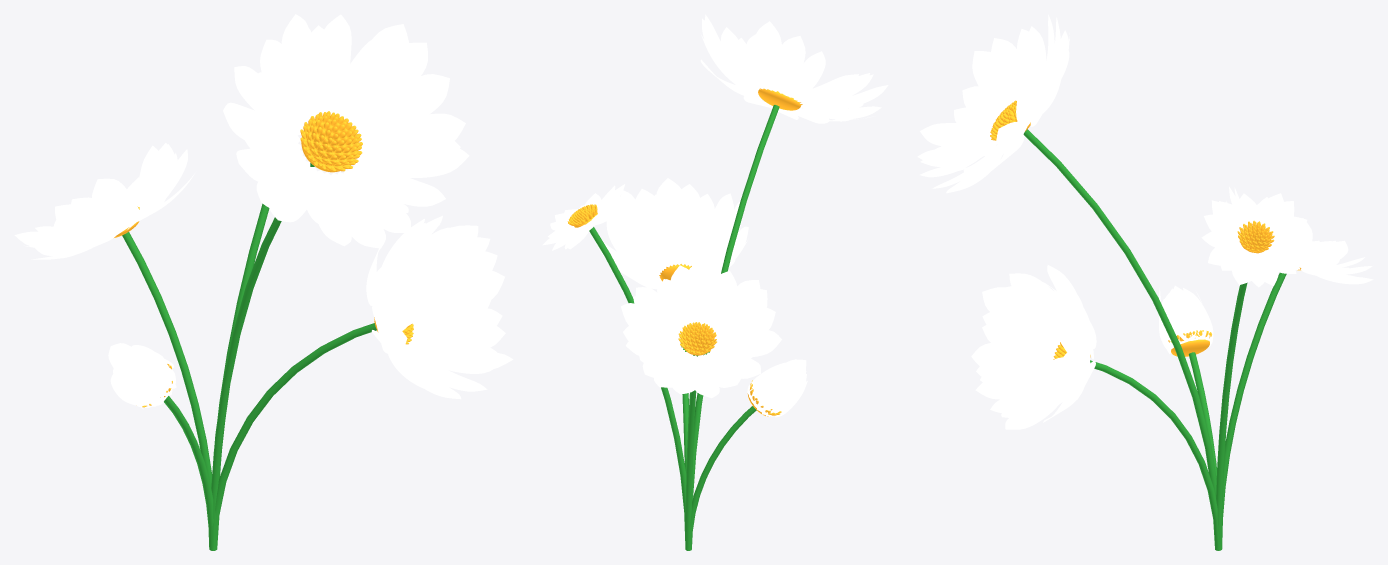
File: daisies.gltf
The picture shows the model from 3 angles, left to right: view 1: azimuth 30°, elevation 25°; view 2: azimuth 150°, elevation 25°; view 3: azimuth 270°, elevation 25°; orthographic projection. The views are drawn at different scales.
Parts seen in each view (by area): view 1: Cube, Cube.004, Cube.001, Cube.002, Cube.003; view 2: Cube.001, Cube, Cube.004, Cube.003, Cube.002; view 3: Cube.004, Cube, Cube.003, Cube.001, Cube.002.
Boxes of the visible parts, <box> form: Cube: <box>209,14,469,550</box>; Cube.004: <box>211,215,513,550</box>; Cube.001: <box>14,143,216,550</box>; Cube.002: <box>108,343,214,550</box>; Cube.003: <box>213,203,269,550</box>; Cube.001: <box>621,259,781,550</box>; Cube: <box>686,14,888,550</box>; Cube.004: <box>595,178,748,472</box>; Cube.003: <box>542,184,689,550</box>; Cube.002: <box>686,359,807,550</box>; Cube.004: <box>971,265,1221,550</box>; Cube: <box>917,14,1221,550</box>; Cube.003: <box>1201,193,1312,550</box>; Cube.001: <box>1215,186,1373,550</box>; Cube.002: <box>1158,285,1221,546</box>.
Bounding box in the file's own units: 0.0681 × 0.1141 × 0.0894.
